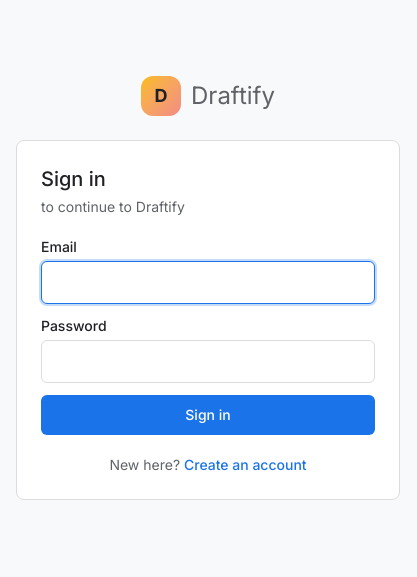
Test: AuthPage › switches to sign-up and requires matching passwords
Click the button "Create an account".
click(245, 465)  # box x1=184 y1=455 x2=307 y2=475
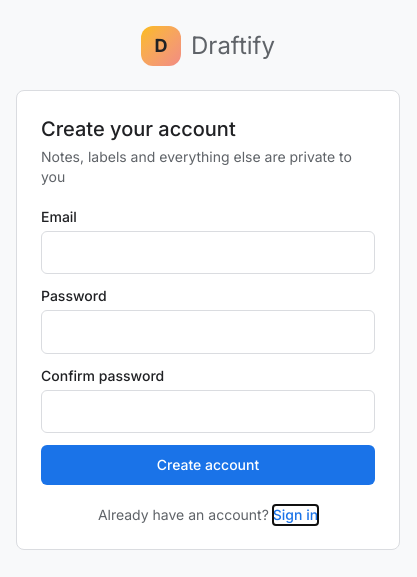
Now the heading "Create your account" is shown, box x1=41 y1=117 x2=236 y2=141
Type "a@example.com" into the field labelled "Email".
click(208, 253); type("a@example.com")  # box x1=41 y1=231 x2=375 y2=274
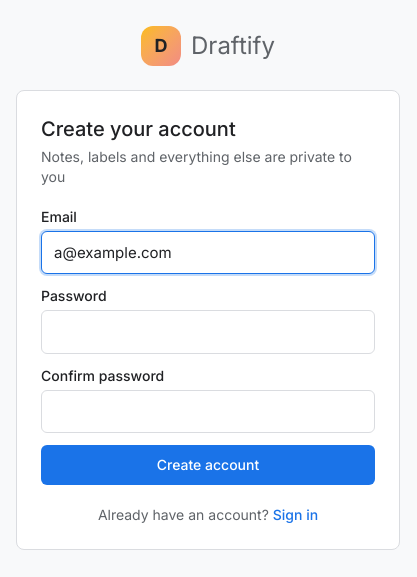
Type "long enough" into the password field labelled "Password".
click(208, 332); type("long enough")  # box x1=41 y1=310 x2=375 y2=354
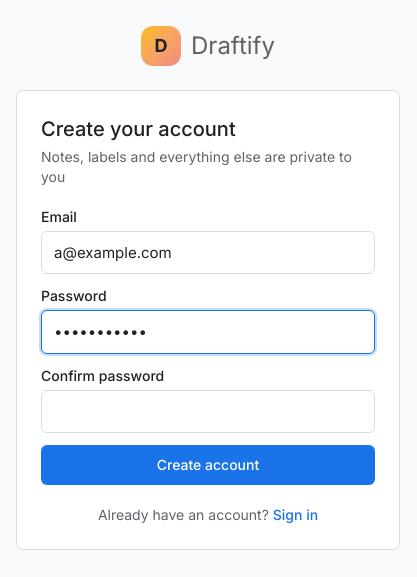
Type "different!" into the password field labelled "Confirm password".
click(208, 411); type("different!")  # box x1=41 y1=390 x2=375 y2=433
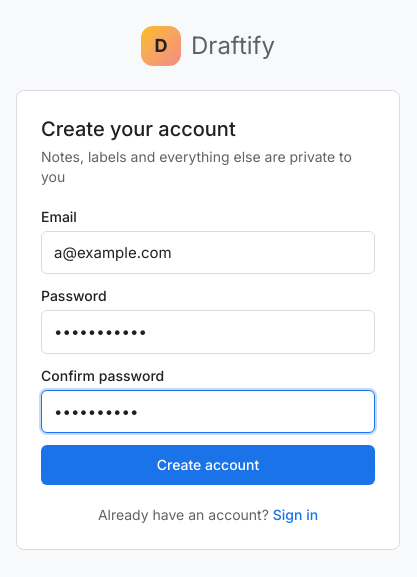
Click the button "Create account".
click(208, 465)  # box x1=41 y1=445 x2=375 y2=485
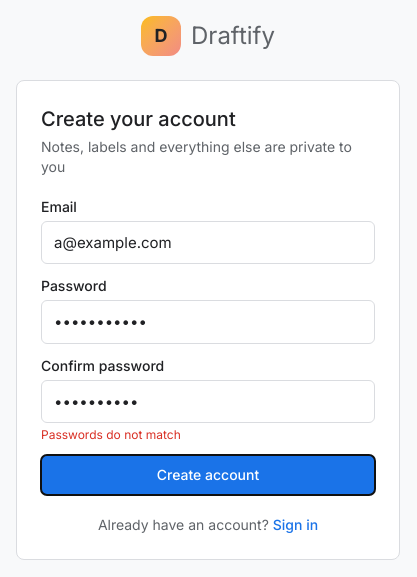
Now the text "Passwords do not match" is shown, box x1=41 y1=427 x2=181 y2=442
